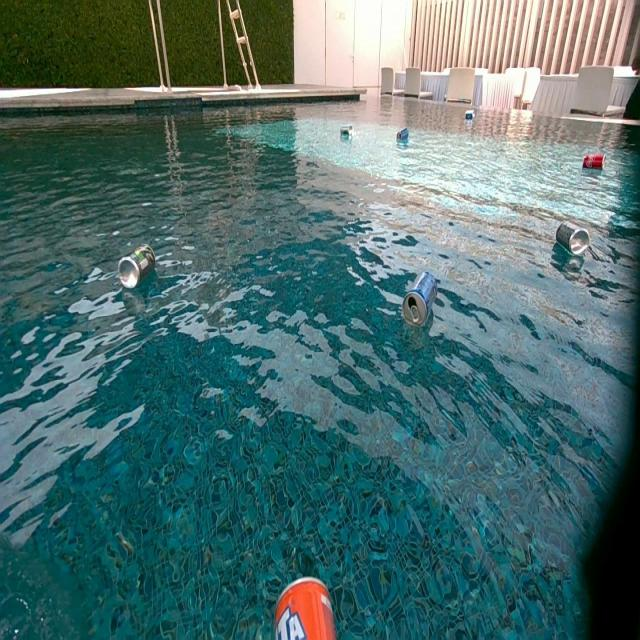Cans: (270, 573, 340, 636), (403, 270, 440, 328), (119, 246, 157, 290), (556, 223, 592, 257), (583, 156, 605, 172), (341, 126, 354, 141), (396, 128, 408, 142), (464, 111, 474, 120)
